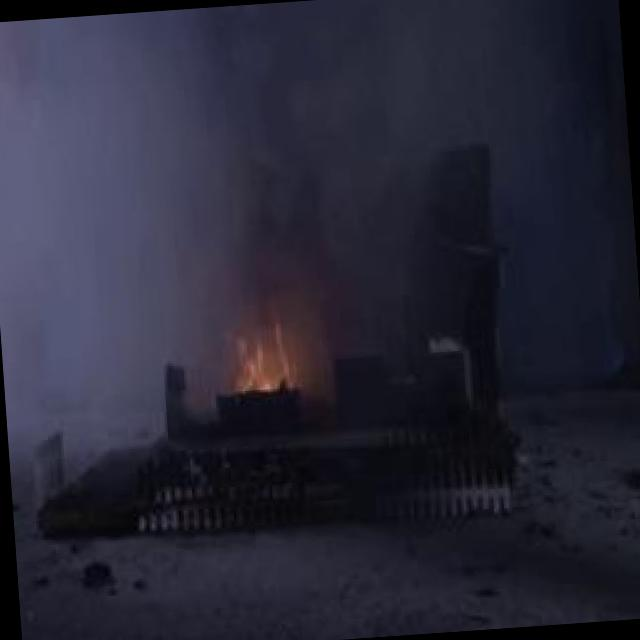fire: (198, 295, 340, 454)
smoke: (0, 0, 631, 306)
